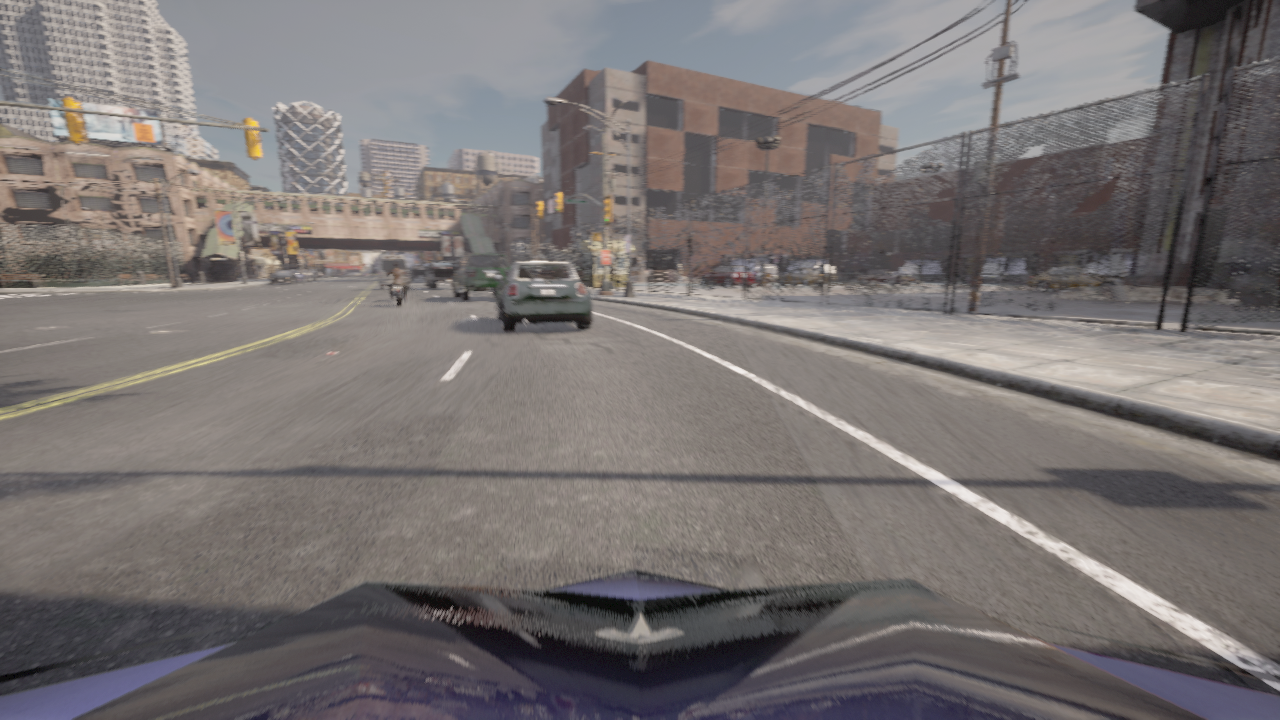cyclist: (0, 569, 1279, 719), (494, 261, 591, 332), (451, 253, 510, 301), (1026, 267, 1123, 292), (700, 265, 753, 288), (981, 257, 1026, 283), (376, 254, 409, 289), (731, 258, 777, 282), (786, 259, 835, 281), (898, 259, 942, 281), (425, 262, 457, 289), (777, 268, 825, 286), (385, 271, 407, 307), (1088, 254, 1131, 272), (858, 272, 914, 285), (271, 270, 298, 285), (286, 269, 306, 283), (409, 267, 427, 282), (1104, 267, 1129, 275), (302, 271, 318, 282), (316, 272, 319, 278), (319, 273, 323, 276), (362, 273, 364, 276), (366, 273, 367, 276), (369, 273, 370, 276)
